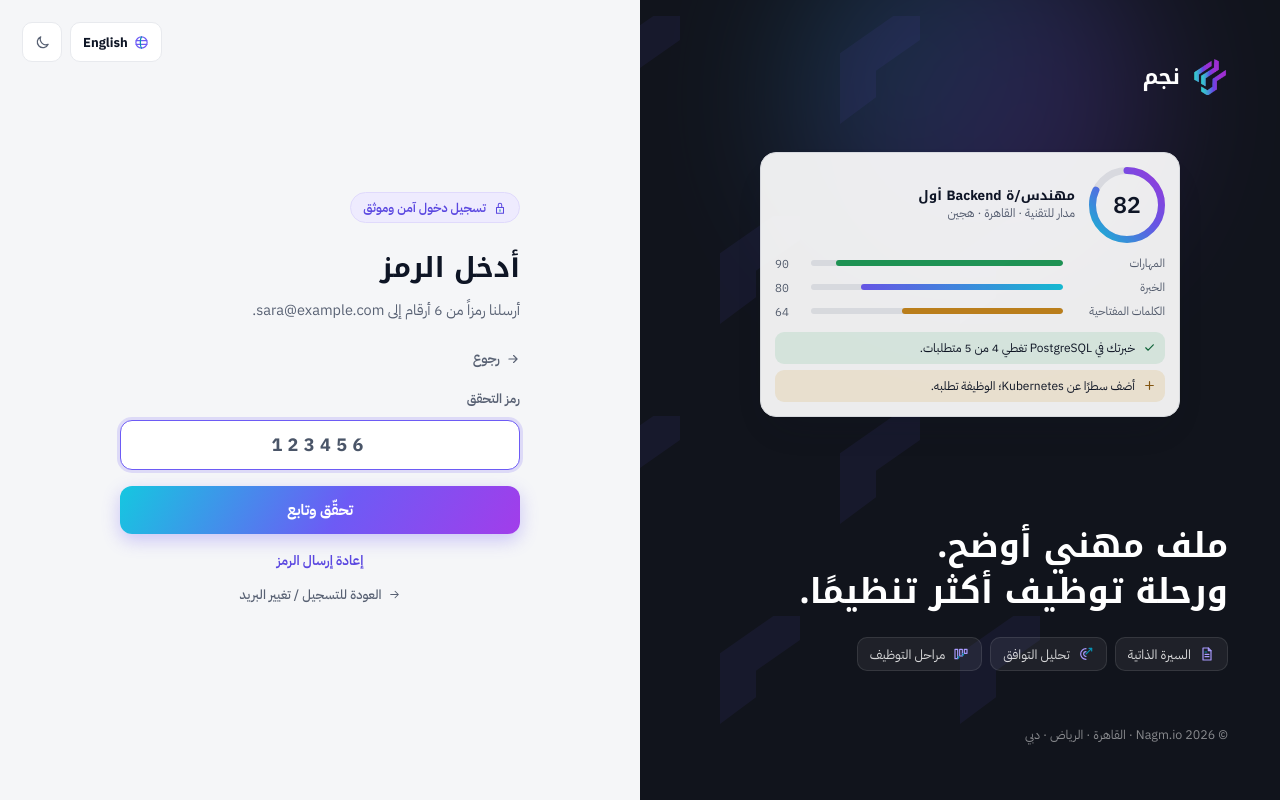
Verify › speaks Arabic, keeps the email left-to-right and translates server errors
The image size is (1280, 800).
Type "482913" into the field labelled "رمز التحقق".
click(320, 445); type("482913")  # box [120, 420, 520, 470]
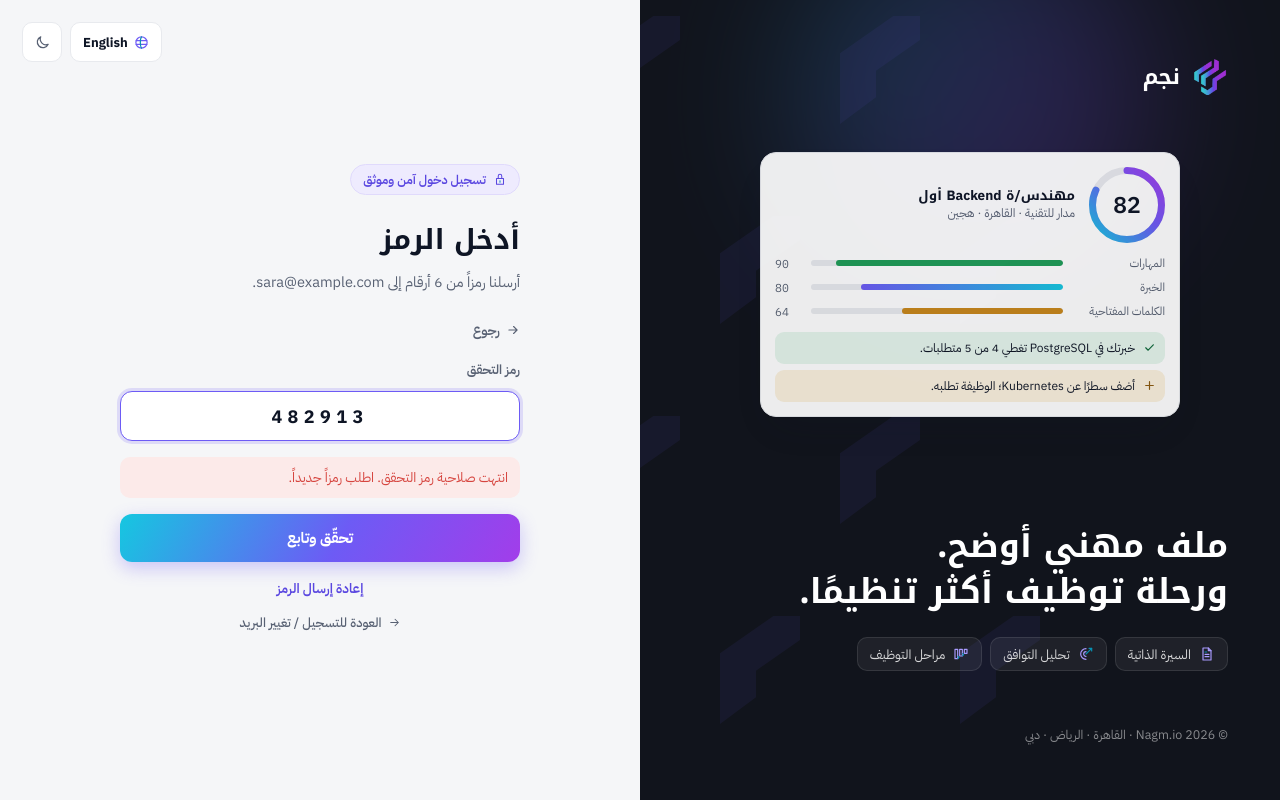
Now the message reads "انتهت صلاحية رمز التحقق. اطلب رمزاً جديداً.", box [288, 467, 508, 488]
